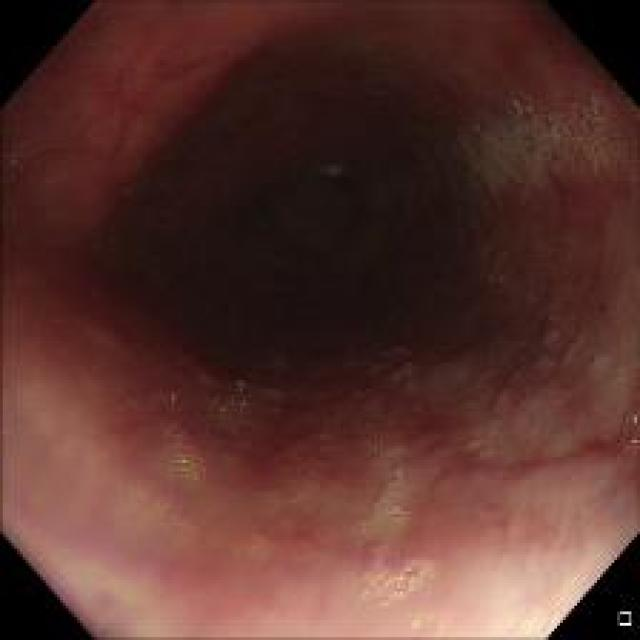bubbles: (451, 90, 628, 196), (364, 431, 436, 610), (162, 419, 219, 486), (386, 352, 449, 395), (560, 331, 588, 366), (621, 405, 638, 454), (612, 362, 631, 386), (540, 324, 559, 346), (595, 339, 612, 359)
color misalignment: (366, 551, 422, 608), (178, 444, 199, 471)
contrast: (81, 58, 529, 404)
